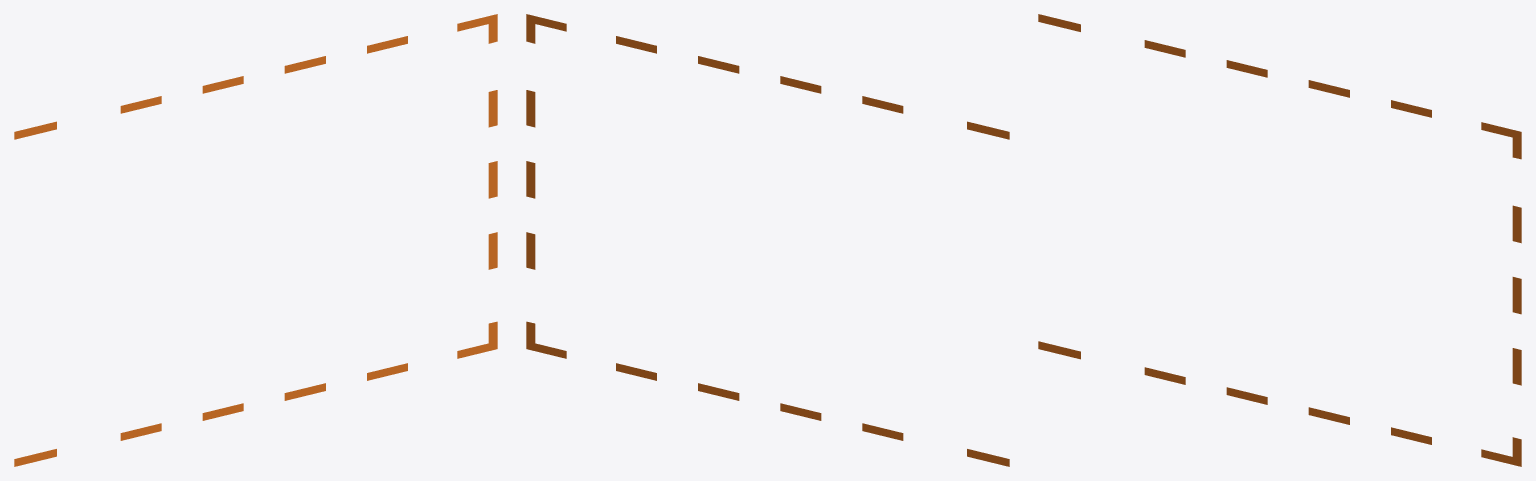
Rendered from Xian2_Mo.fbx.
3 views of the same model, side by side, from view 1: azimuth 30°, elevation 25°; view 2: azimuth 150°, elevation 25°; view 3: azimuth 330°, elevation 25° (orthographic).
Parts seen in each view (by area): view 1: 对象005; view 2: 对象005; view 3: 对象005.
Boxes of the visible parts, left/top/right/bottom form: 对象005: left=14, top=14, right=497, bottom=466; 对象005: left=526, top=14, right=1009, bottom=466; 对象005: left=1038, top=14, right=1521, bottom=466.
Size of the model in its own units: 2286 by 1515 by 0.000256.
1 material, 1 textured.
